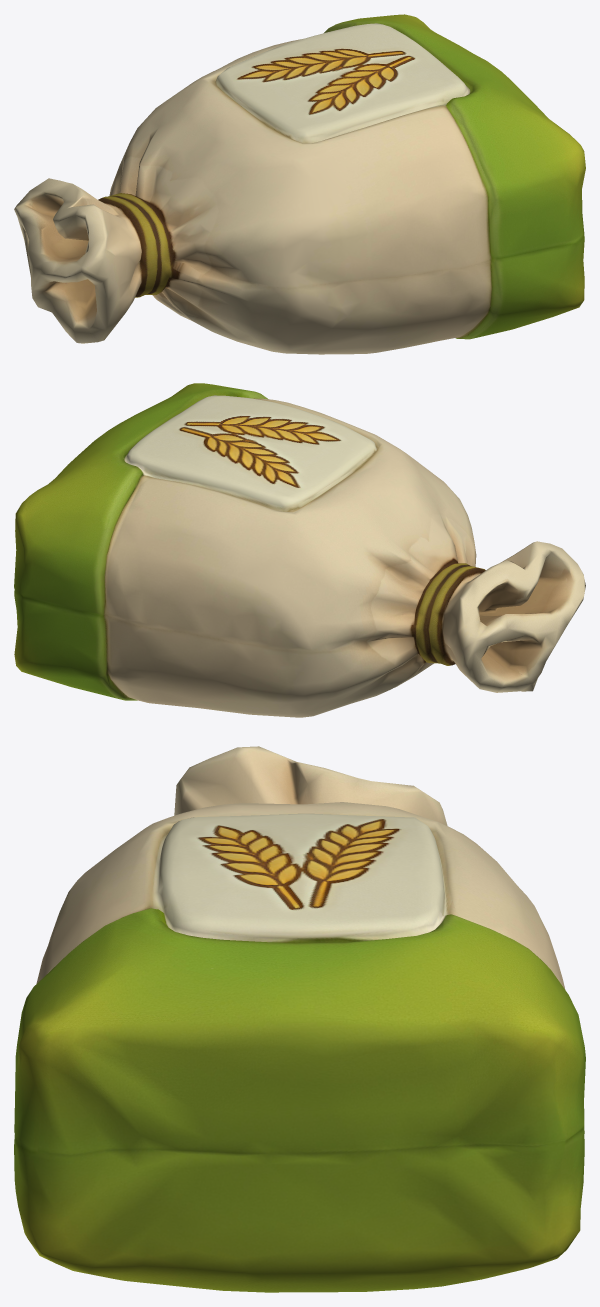
File: rice-normal.glb
The picture shows the model from 3 angles, top to bottom: view 1: azimuth 30°, elevation 25°; view 2: azimuth 150°, elevation 25°; view 3: azimuth 270°, elevation 25°; orthographic projection. The views are drawn at different scales.
Parts seen in each view (by area): view 1: tripo_node_04870ef7-7995-4707-84ca-6d51e77f0f52.001; view 2: tripo_node_04870ef7-7995-4707-84ca-6d51e77f0f52.001; view 3: tripo_node_04870ef7-7995-4707-84ca-6d51e77f0f52.001.
Boxes of the visible parts, left/top/right/bottom form: tripo_node_04870ef7-7995-4707-84ca-6d51e77f0f52.001: left=14, top=14, right=585, bottom=354; tripo_node_04870ef7-7995-4707-84ca-6d51e77f0f52.001: left=14, top=383, right=585, bottom=717; tripo_node_04870ef7-7995-4707-84ca-6d51e77f0f52.001: left=14, top=746, right=585, bottom=1292.
Size of the model in its own units: 0.9803 by 0.5057 by 0.7121.
1 material, 1 textured.
